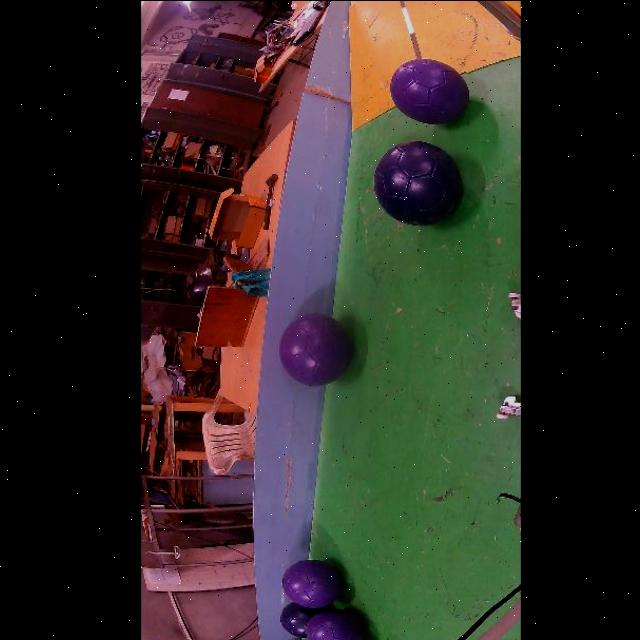B: (373, 141, 461, 225), (279, 603, 329, 638)
P: (389, 58, 468, 124), (278, 314, 350, 386), (280, 559, 340, 608), (304, 609, 364, 640)
